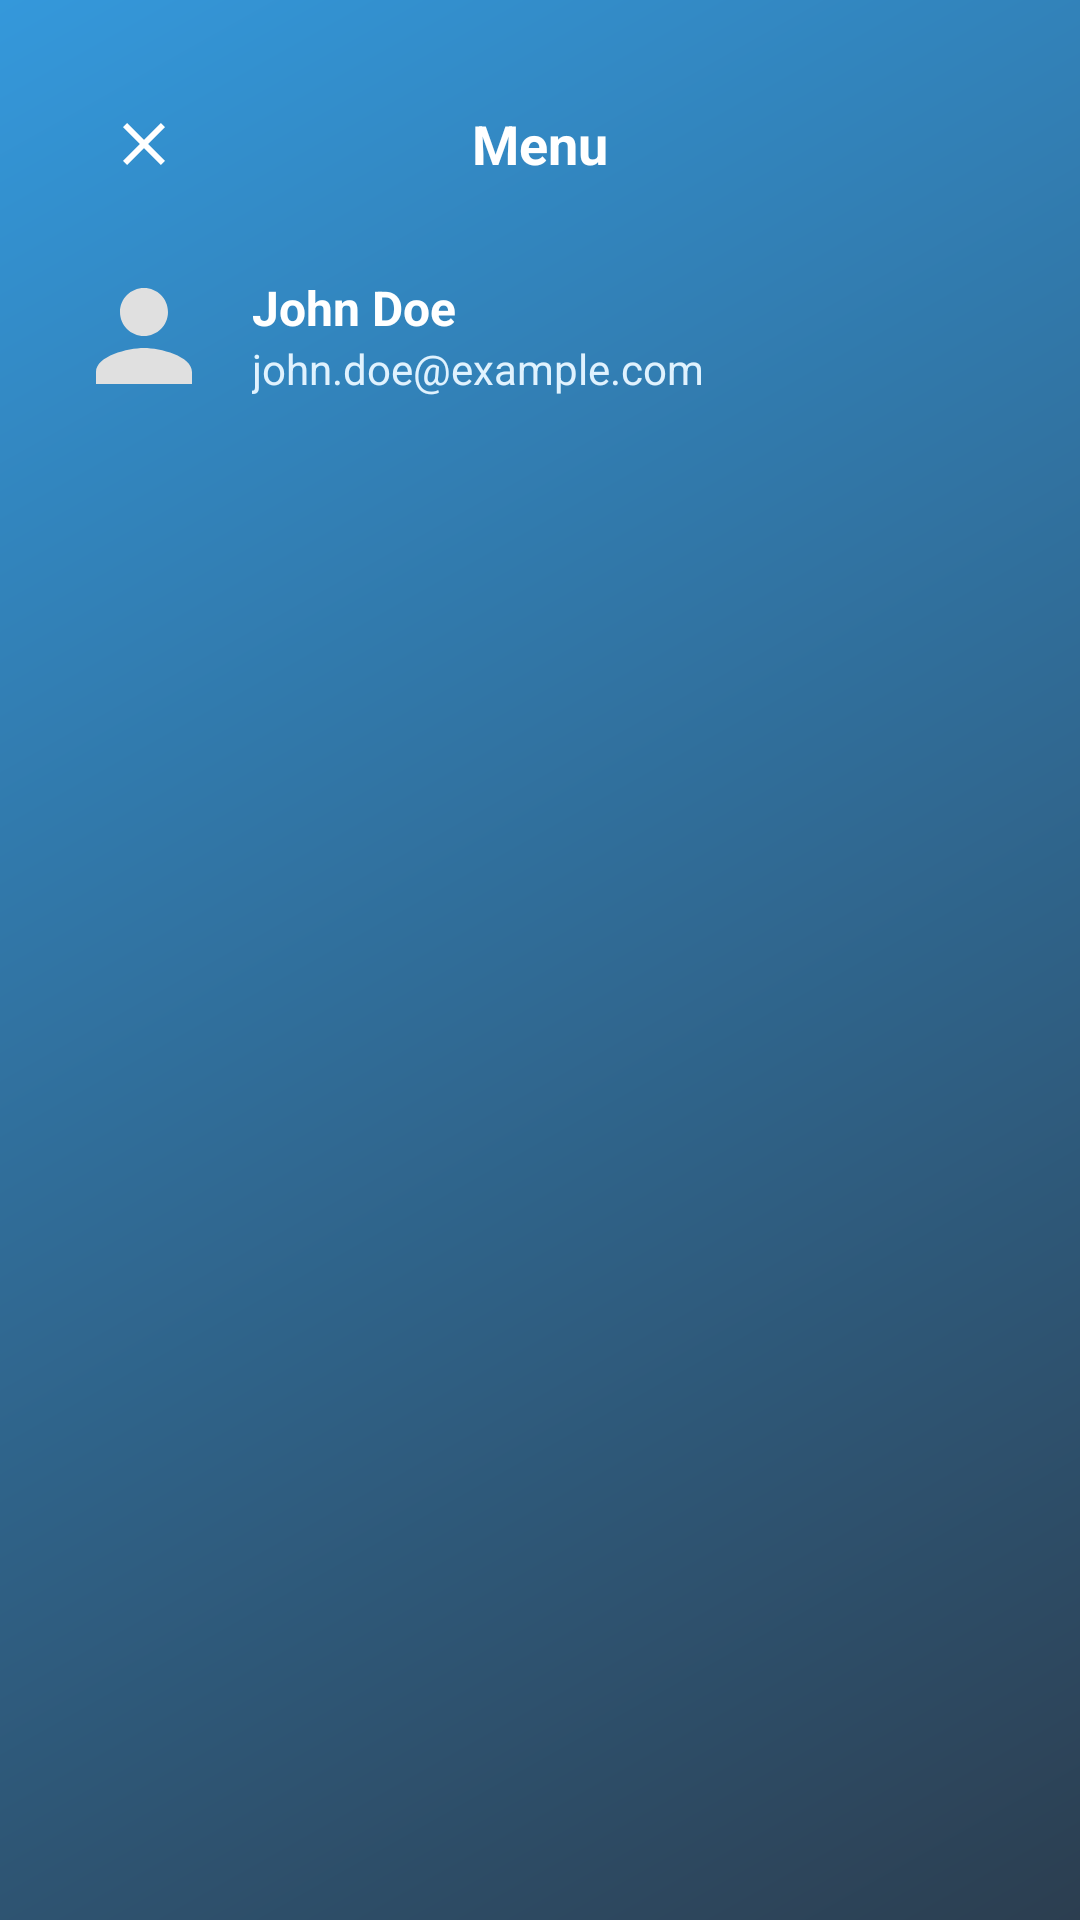

Named icons in this screenshot (1080*1920) and their centers, (x=x, y=y):
Close: (x=144, y=144)
